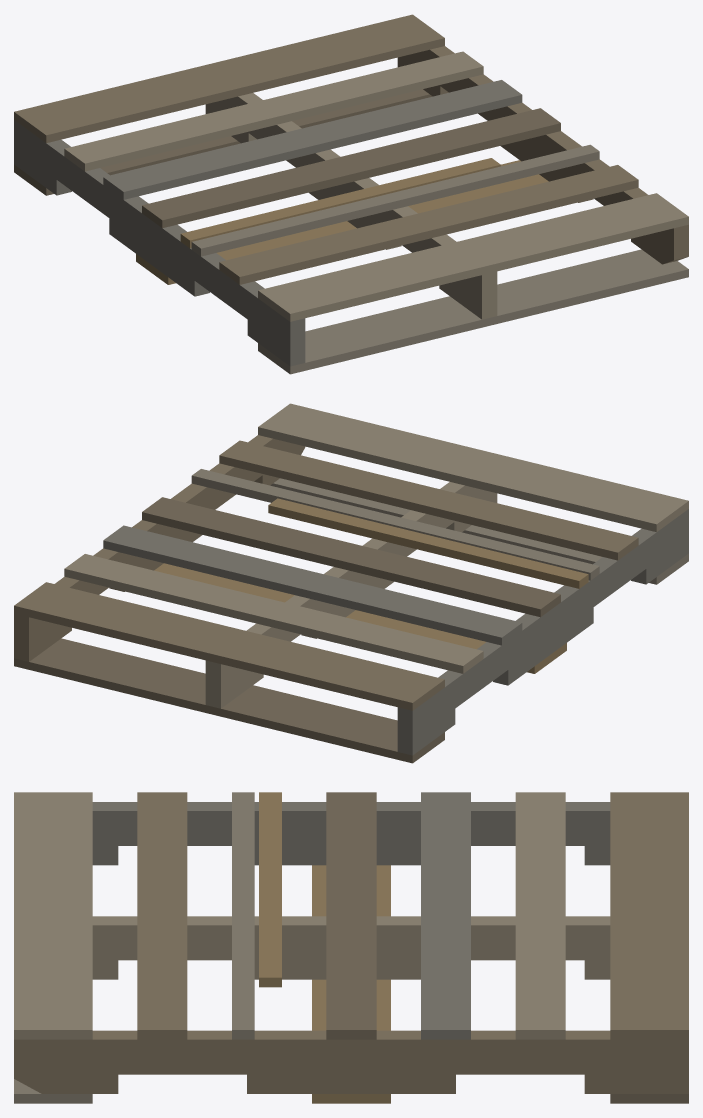
The model's file is pallet.glb.
3 views of the same model, one above another, from view 1: azimuth 30°, elevation 25°; view 2: azimuth 150°, elevation 25°; view 3: azimuth 270°, elevation 25° (orthographic). The views are drawn at different scales.
Parts seen in each view (by area): view 1: Pallet; view 2: Pallet; view 3: Pallet.
Boxes of the visible parts, x1=… form: Pallet: x1=14, y1=14, x2=688, y2=374; Pallet: x1=14, y1=403, x2=688, y2=763; Pallet: x1=14, y1=792, x2=688, y2=1103.
Bounding box in the file's own units: 1 × 0.145 × 1.2.
